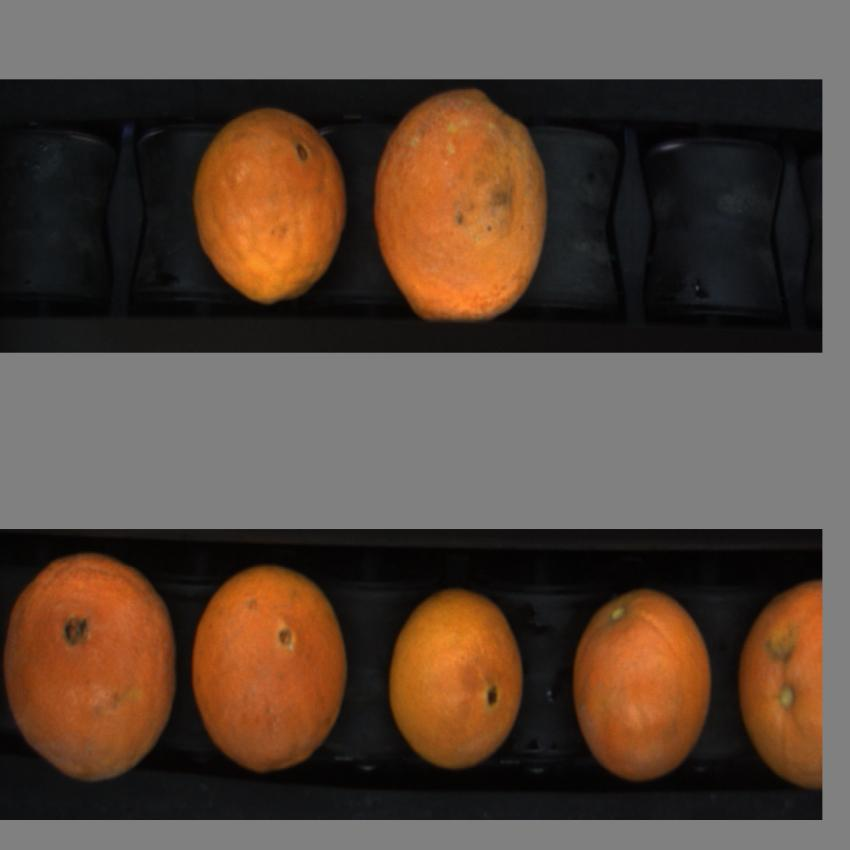Buen estado: (190, 98, 350, 310), (190, 563, 350, 775), (574, 585, 717, 791), (390, 577, 525, 766), (742, 580, 822, 798)
Mal estado: (370, 83, 554, 330), (4, 556, 176, 794)
